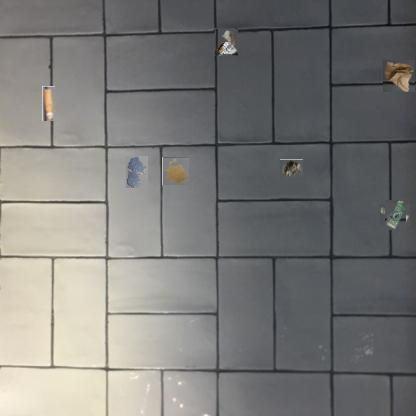dirty: (383, 60, 415, 92), (382, 202, 408, 228), (214, 28, 238, 56), (279, 159, 303, 178), (42, 86, 55, 121)
liquid: (162, 158, 190, 185), (126, 156, 148, 188)
